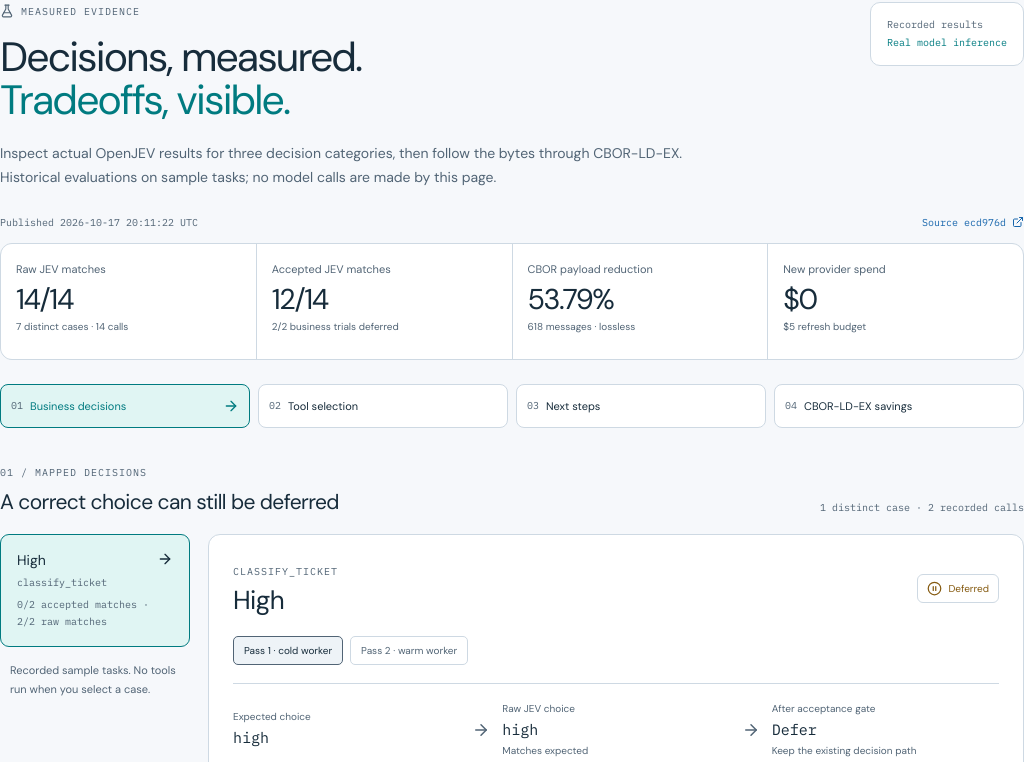
Test case: measured benchmark workspace › pairs CBOR payload savings with serialization cost, JSON fallback and scoped mailbox evidence
Expected: the navigation bar named "Benchmark categories" is shown, [0,384,1023,428]
Click the button "04 CBOR-LD-EX savings" at {"x": 899, "y": 406}, box [774,384,1023,428]
(page scrolled)
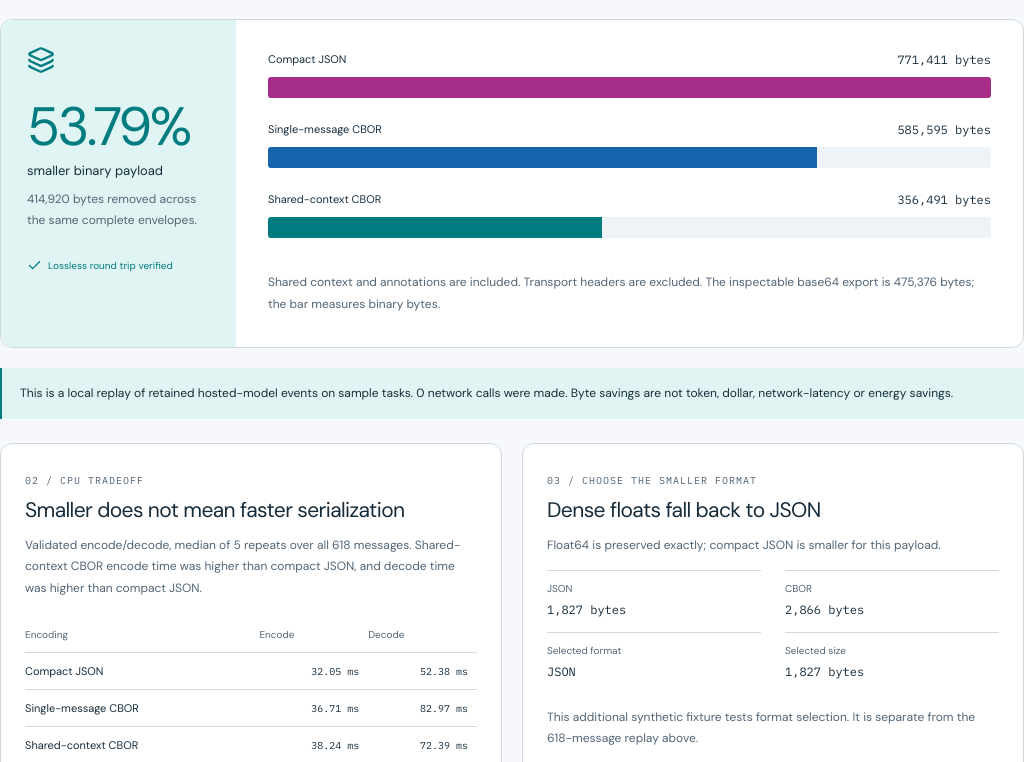
Expected: the text "771,411 bytes" is shown, [897,52,991,67]
Expected: the text "356,491 bytes" is shown, [897,192,991,207]
Expected: the text "53.79%" is shown, [27,95,210,160]
